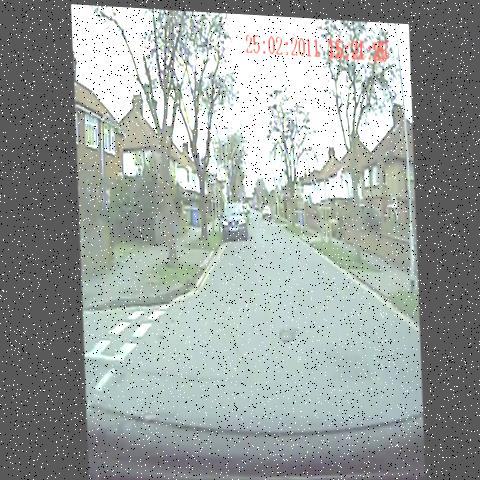pothole: (271, 308, 303, 353)
